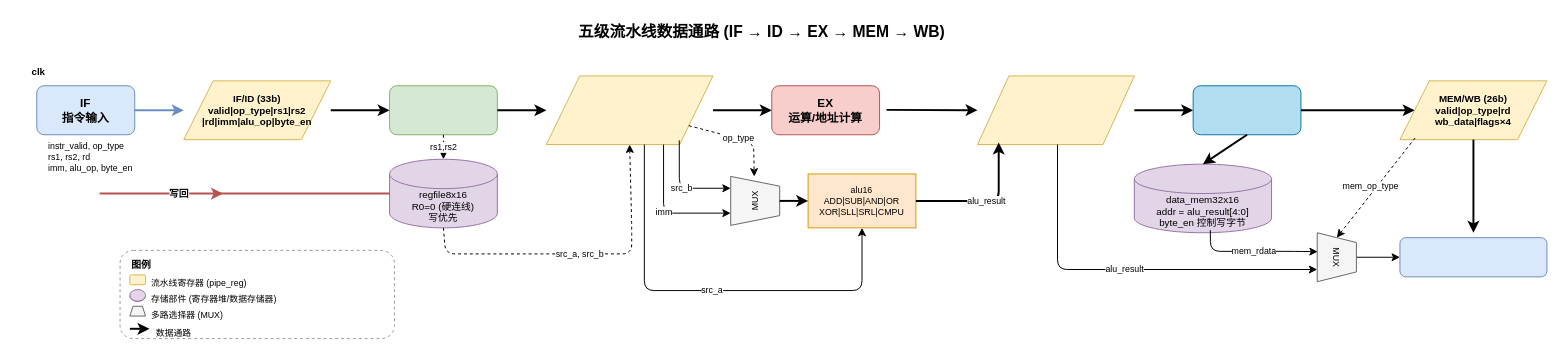
Some shapes in this 1564 by 356 pixel diagram are drawn without their labels. The box of each missing label's shape, as (x1, y1, x2, y2) in pixels:
EX/MEM (44b) valid|op_type|rd alu_result|src_b byte_en|flags×4: (977, 75, 1134, 145)
ID 译码&读寄存器: (389, 85, 497, 135)
ID/EX (59b) valid|op_type|rd|rs1|rs2 src_a|src_b|imm|alu_op|byte_en: (545, 75, 713, 145)
MEM 存储器访问: (1192, 85, 1301, 135)
WB 写回: (1399, 237, 1547, 277)
